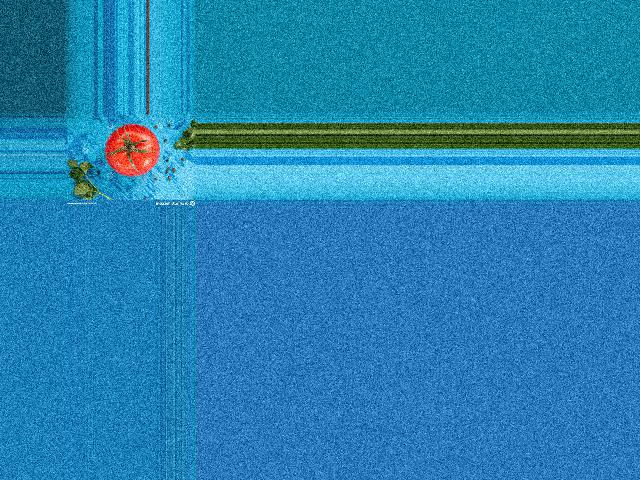tomato: (104, 124, 159, 176)
